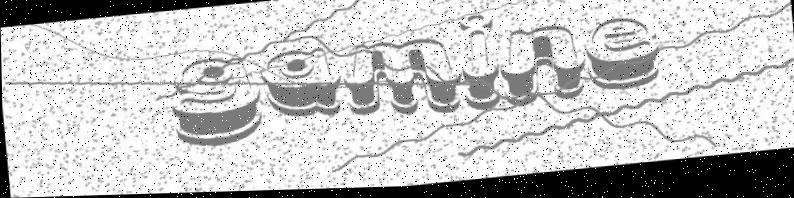a: (256, 46, 343, 125)
e: (578, 17, 662, 97)
g: (164, 54, 265, 152)
i: (454, 12, 503, 119)
m: (337, 33, 462, 125)
n: (493, 21, 587, 112)
